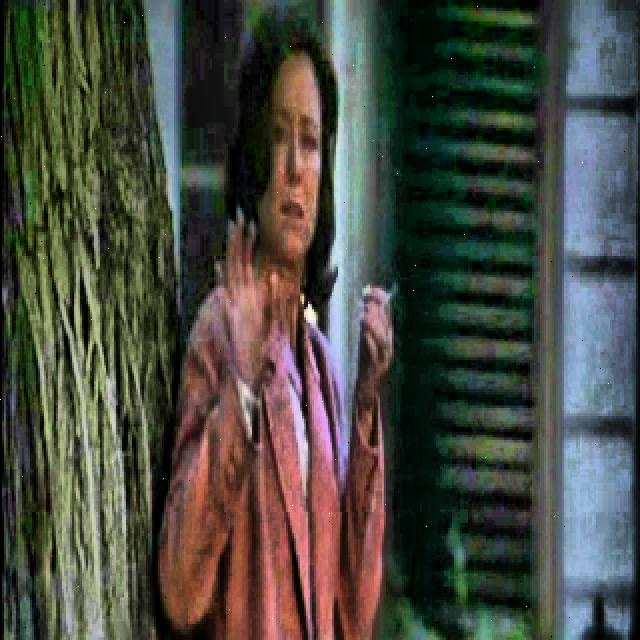T: (154, 20, 395, 638)
